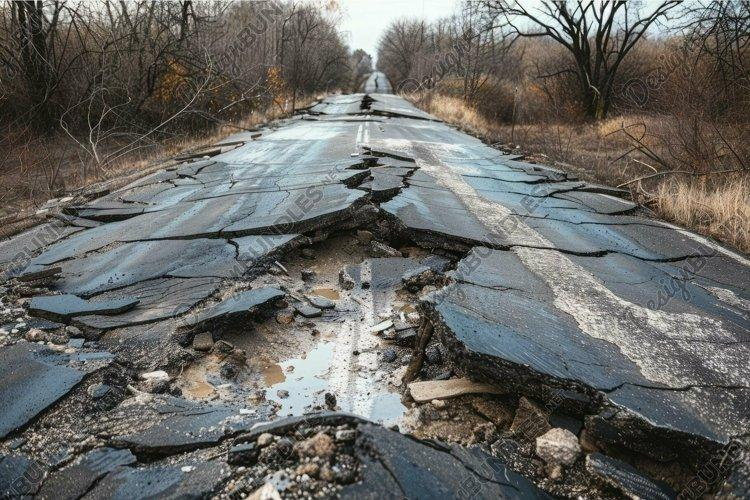crackedroads: (204, 204, 477, 437), (464, 354, 729, 499), (340, 152, 414, 194), (181, 148, 220, 170)
